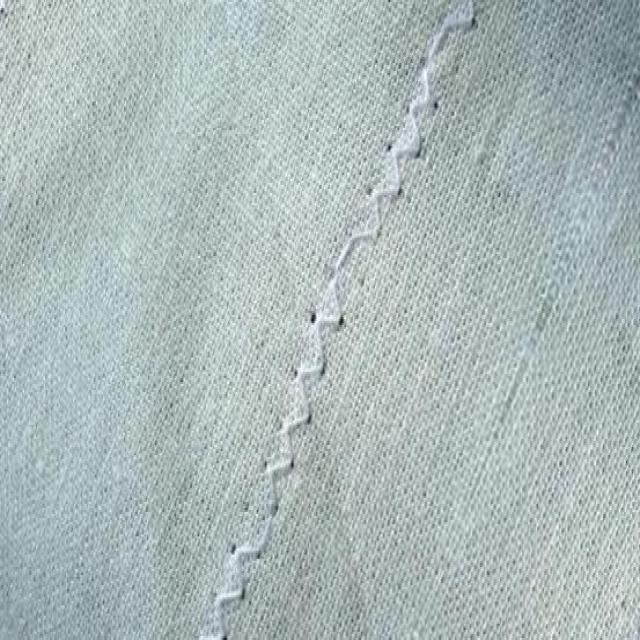gray stitch: (200, 244, 360, 638), (358, 4, 474, 248)
